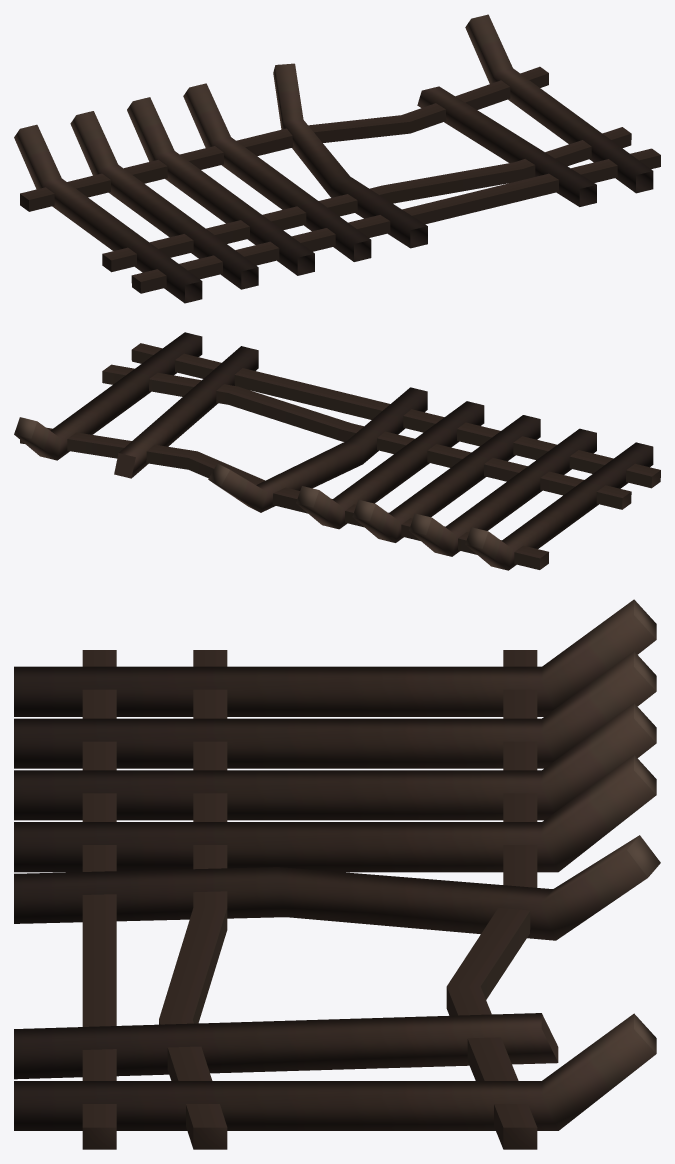
The model's file is Fence 02.FBX.
3 renders of one model, top to bottom at view 1: azimuth 30°, elevation 25°; view 2: azimuth 150°, elevation 25°; view 3: azimuth 270°, elevation 25°, orthographic. The views are drawn at different scales.
Visible parts, largest first — view 1: Fence 02; view 2: Fence 02; view 3: Fence 02.
Boxes of the visible parts, box(x1,y1,x2,y2) form: Fence 02: box(14, 14, 660, 303); Fence 02: box(14, 332, 660, 570); Fence 02: box(14, 599, 660, 1149).
Bounding box in the file's own units: 461 × 45.8 × 264.
Materials: 1 (1 with a texture image).
